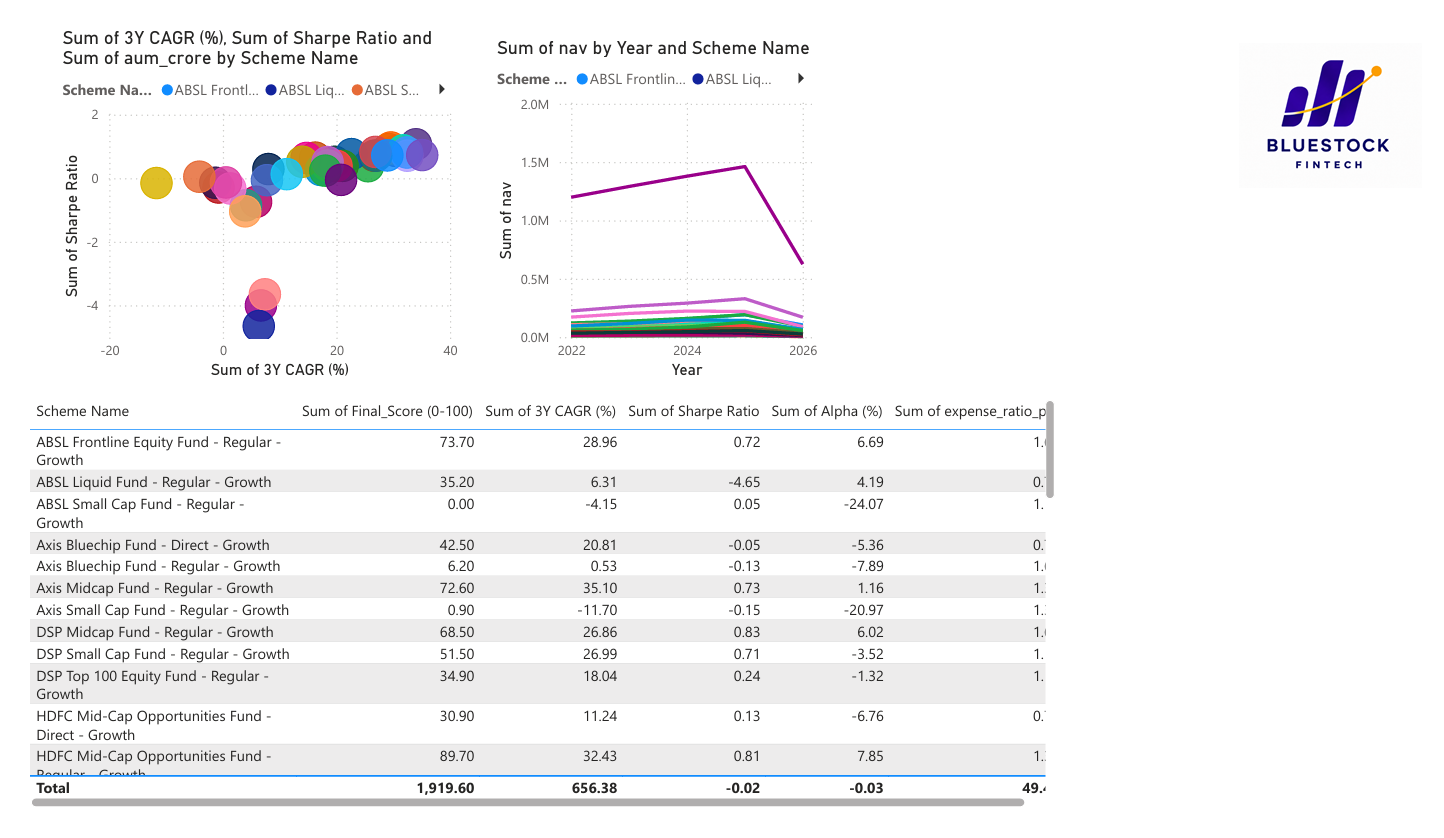

The dashboard page shown, as its layout file describes it:
{"tool":"powerbi","page":{"name":"Page 2","canvas":[1280,720],"ordinal":1},"visuals":[{"type":"scatterChart","fields":{"X":["Sum(fund_scorecard.3Y CAGR (%))"],"Y":["Sum(fund_scorecard.Sharpe Ratio)"],"Series":["fund_scorecard.Scheme Name"],"Size":["Sum(03_aum_by_fund_house.aum_crore)"]},"box":[30,0,372.2,327.8],"z":0},{"type":"tableEx","fields":{"Values":["fund_scorecard.Scheme Name","Sum(fund_scorecard.Final_Score (0-100))","Sum(fund_scorecard.3Y CAGR (%))","Sum(fund_scorecard.Sharpe Ratio)","Sum(fund_scorecard.Alpha (%))","Sum(fund_scorecard.expense_ratio_pct)"]},"box":[0,336.7,948.9,383.3],"z":1000},{"type":"lineChart","fields":{"Category":["clean_nav_history.date.Variation.Date Hierarchy.Year","clean_nav_history.date.Variation.Date Hierarchy.Quarter","clean_nav_history.date.Variation.Date Hierarchy.Month","clean_nav_history.date.Variation.Date Hierarchy.Day"],"Y":["Sum(clean_nav_history.nav)"],"Series":["fund_scorecard.Scheme Name"]},"box":[427.8,8.9,303.3,318.9],"z":2000},{"type":"image","box":[1113.3,0,166.7,164.4],"z":2001}]}

Visuals, with their boxes on the page's 1280x720 design canvas (x1, y1, x2, y2). These are canvas units, not pixel positions in the 1444x838 screenshot, which may show the page scaled, cropped or inside an application window:
scatterChart - Sum(fund_scorecard.3Y CAGR (%)) x Sum(fund_scorecard.Sharpe Ratio): 30,0,402,328
tableEx - fund_scorecard.Scheme Name x Sum(fund_scorecard.Final_Score (0-100)): 0,337,949,720
lineChart - clean_nav_history.date.Variation.Date Hierarchy.Year x clean_nav_history.date.Variation.Date Hierarchy.Quarter: 428,9,731,328
image: 1113,0,1280,164
